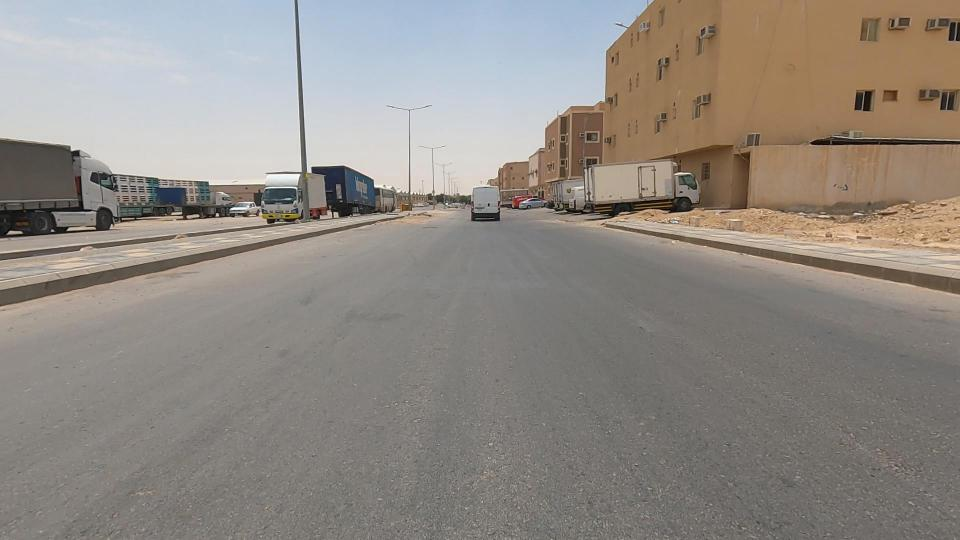GARBAGE: (764, 177, 903, 240), (632, 193, 698, 243)
GRAFFITI: (804, 160, 884, 208)
